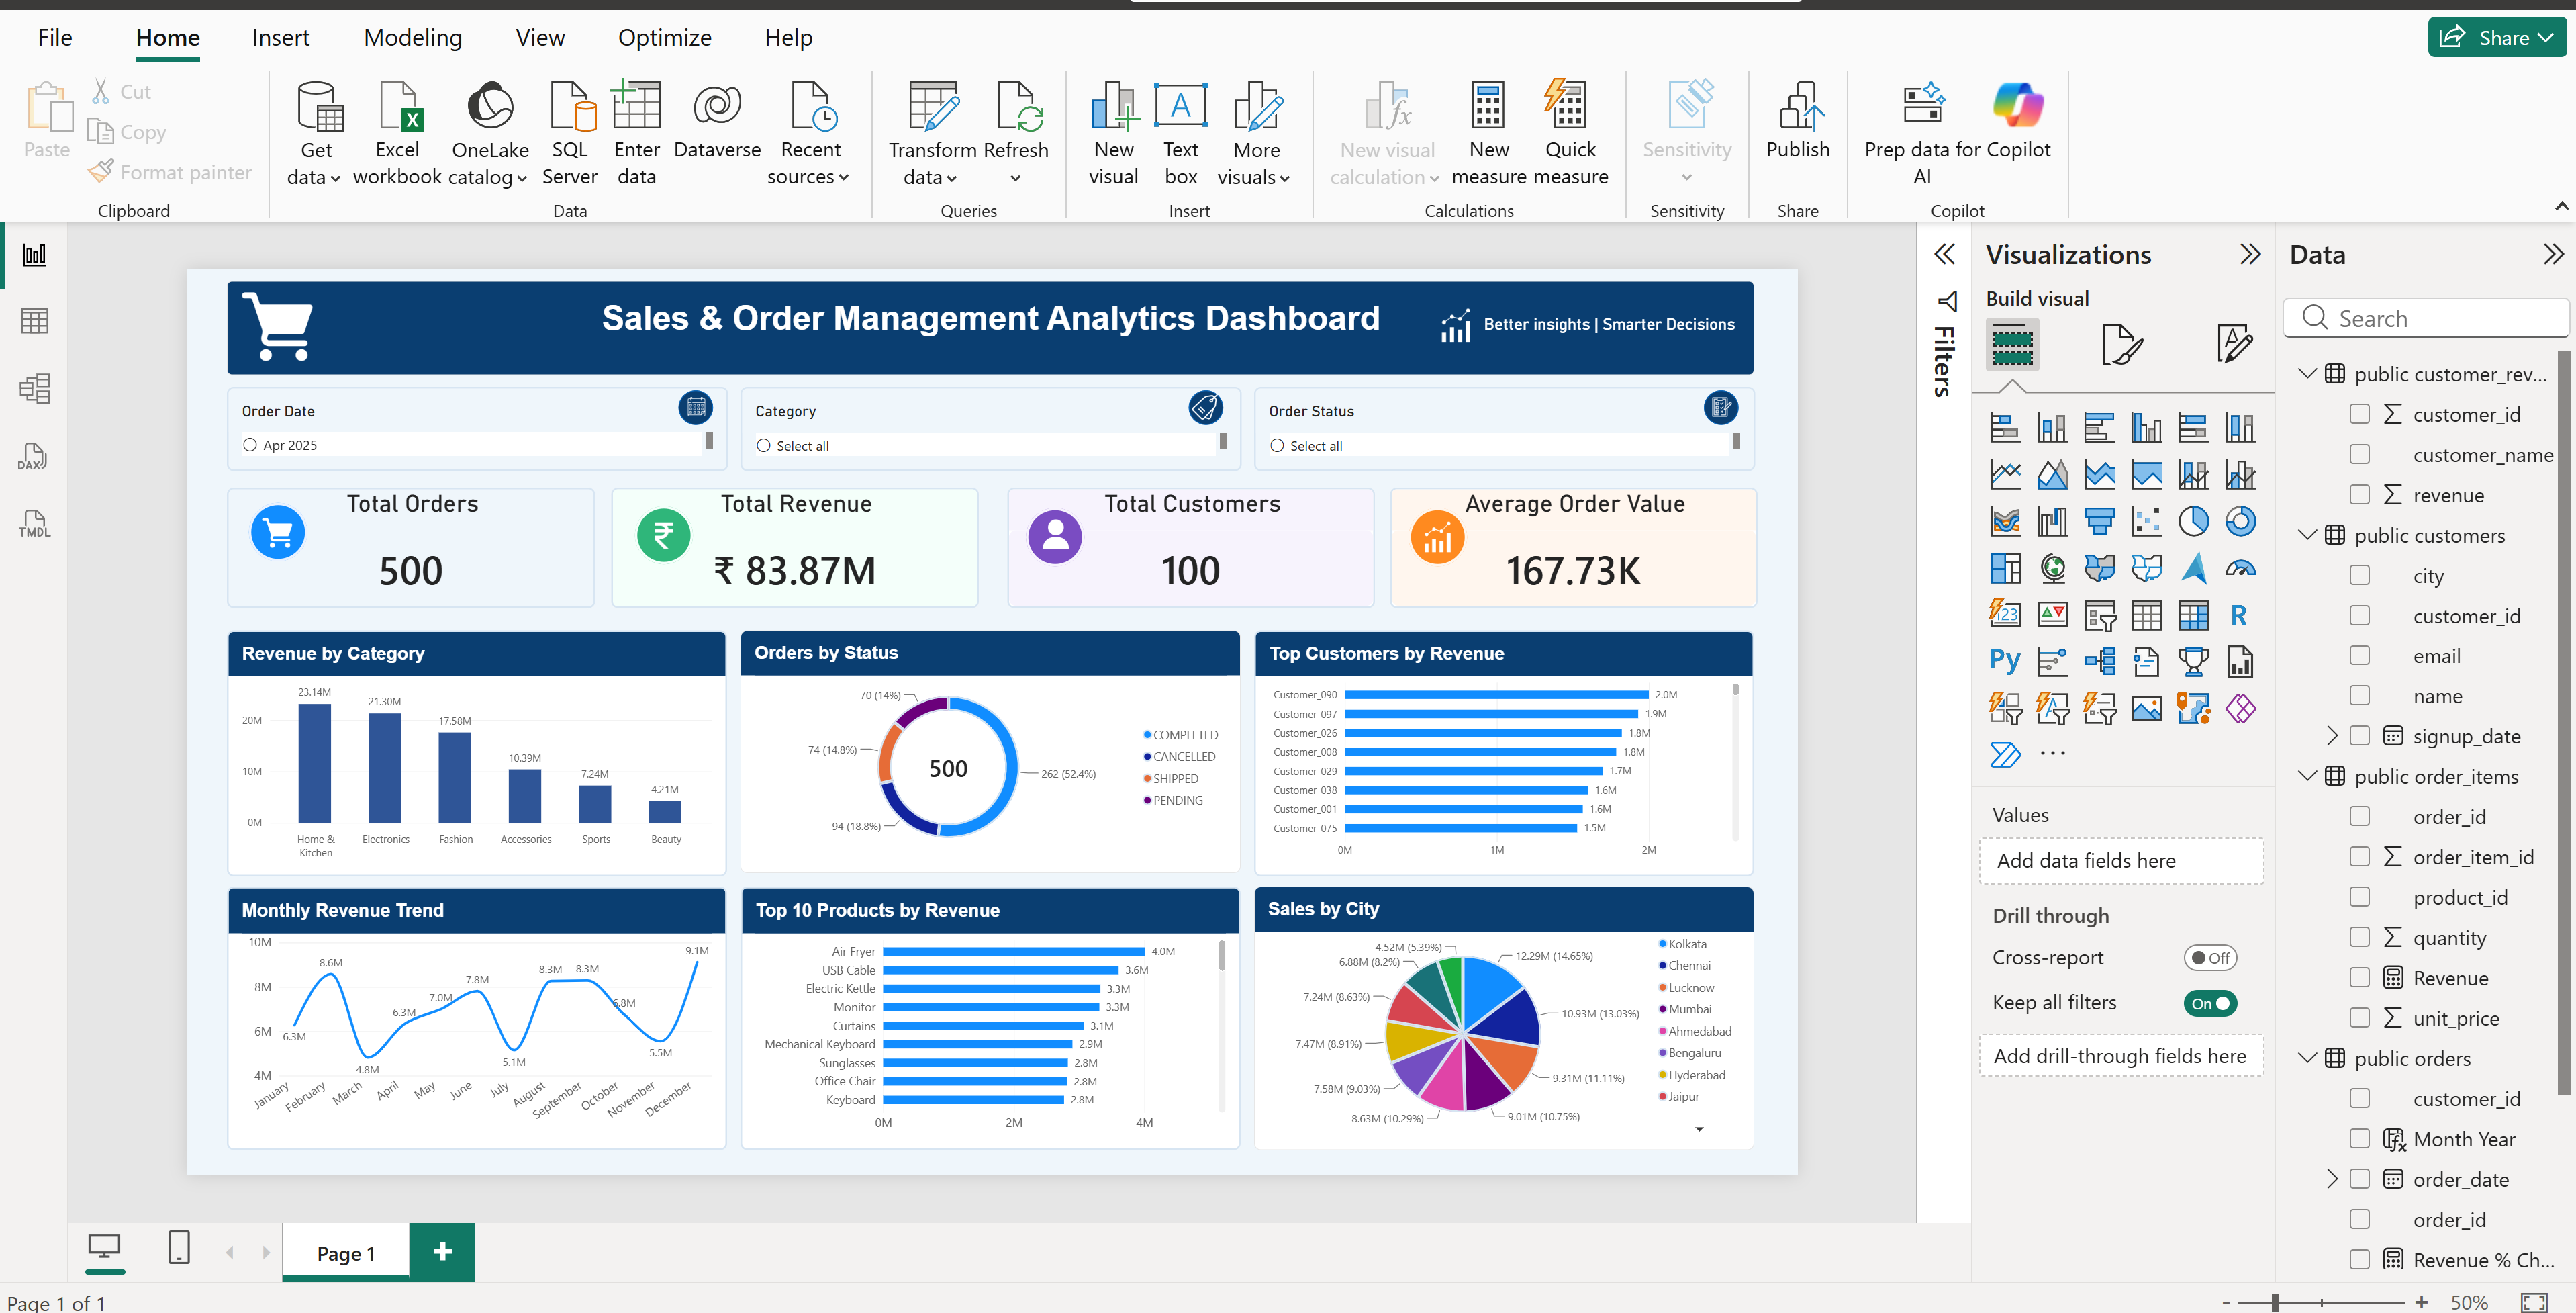

This screenshot's page, from the dashboard's own definition file:
{"tool":"powerbi","page":{"name":"Page 1","canvas":[1920,1080],"ordinal":0},"visuals":[{"type":"cardVisual","title":"Total Revenue","fields":{"Data":["Sum(public orders.total_amount)"]},"box":[505.3,260.8,438,143.8],"z":0},{"type":"shape","box":[74.5,277.1,70,70],"z":1000},{"type":"cardVisual","title":"Total Orders","fields":{"Data":["CountNonNull(public orders.order_id)"]},"box":[47.9,260.6,438.8,143.6],"z":2000},{"type":"image","box":[89.8,283.5,36.5,58.9],"z":3000},{"type":"cardVisual","title":"Total Customers","fields":{"Data":["CountNonNull(public customers.customer_id)"]},"box":[978.6,260.8,438,143.5],"z":4000},{"type":"cardVisual","title":"Average Order Value","fields":{"Data":["Avg(public orders.total_amount)"]},"box":[1433.4,260.8,438,143.5],"z":5000},{"type":"lineChart","title":"Monthly Revenue Trend","fields":{"Category":["public orders.order_date.Variation.Date Hierarchy.Month"],"Y":["Sum(public orders.total_amount)"]},"box":[47.3,735.2,596,314.1],"z":6000},{"type":"clusteredColumnChart","title":"Revenue by Category","fields":{"Category":["public products.category"],"Y":["public order_items.Revenue"]},"box":[48,430,596,294],"z":7000},{"type":"clusteredBarChart","title":"Top 10 Products by Revenue","fields":{"Category":["public products.product_name"],"Y":["public order_items.Revenue"]},"box":[659.4,735.2,596,314.1],"z":8000},{"type":"donutChart","title":"Orders by Status","fields":{"Category":["public orders.status"],"Y":["CountNonNull(public orders.order_id)"]},"box":[660,430,596,290],"z":9000},{"type":"pieChart","title":"Sales by City","fields":{"Category":["public customers.city"],"Y":["Sum(public orders.total_amount)"]},"box":[1271.5,735.2,596,314.1],"z":10000},{"type":"clusteredBarChart","title":"Top Customers by Revenue","fields":{"Category":["public customers.name"],"Y":["Sum(public orders.total_amount)"]},"box":[1272,430,596,294],"z":11000},{"type":"textbox","title":"Sales & Order Management Analytics Dashboard","box":[48,14,1820,112],"z":12000},{"type":"listSlicer","title":"Order Date","fields":{"Values":["public orders.Month Year"]},"box":[48.8,140.1,597.1,100.5],"z":13000},{"type":"listSlicer","title":"Category","fields":{"Values":["public products.category"]},"box":[660.3,140.1,597.1,100.5],"z":14000},{"type":"listSlicer","title":"Order Status","fields":{"Values":["public orders.status"]},"box":[1271.8,140.1,597.1,100.5],"z":15000},{"type":"image","box":[49.7,24.8,117.1,85.1],"z":16000},{"type":"image","box":[1490.6,44.4,45,45],"z":17000},{"type":"shape","box":[534.3,282.4,69.5,69.5],"z":17000,"group":"g1"},{"type":"textbox","title":"Better insights  |  Smarter Decisions","box":[1546.8,44.4,316.5,41.4],"z":18000},{"type":"image","box":[547.1,292.8,47.3,50.3],"z":18000,"group":"g1"},{"type":"group","id":"g1","title":"Group 1","box":[534.3,282.4,69.5,69.5],"z":19000},{"type":"shape","box":[999.6,283.9,70,70],"z":19000,"group":"g2"},{"type":"group","id":"g2","title":"Group 2","box":[999.6,283.9,70,70],"z":20000},{"type":"image","box":[1017.3,298.7,35.5,35.5],"z":20000,"group":"g2"},{"type":"group","id":"g3","title":"Group 3","box":[1455.1,283.9,70,70],"z":21000},{"type":"shape","box":[1455.1,283.9,70,70],"z":21000,"group":"g3"},{"type":"shape","box":[586.4,145,41.4,41.4],"z":22000,"group":"g4"},{"type":"image","box":[1469.9,298.7,41.4,41.4],"z":22000,"group":"g3"},{"type":"shape","box":[1193.2,145,41.4,41.4],"z":23000,"group":"g5"},{"type":"shape","box":[1808.9,145,41.4,41.4],"z":24000,"group":"g6"},{"type":"image","box":[595.8,154,23,23],"z":25000,"group":"g4"},{"type":"image","box":[1196.2,147.3,35.3,35.3],"z":26000,"group":"g5"},{"type":"image","box":[1819.8,153,23,24],"z":27000,"group":"g6"},{"type":"group","id":"g4","title":"Group 4","box":[586.4,145,41.4,41.4],"z":27001},{"type":"group","id":"g5","title":"Group 5","box":[1193.2,145,41.4,41.4],"z":27002},{"type":"group","id":"g6","title":"Group 6","box":[1808.9,145,41.4,41.4],"z":27003}]}

Visuals, with their boxes on the page's 1920x1080 design canvas (x1, y1, x2, y2). These are canvas units, not pixel positions in the 2576x1313 screenshot, which may show the page scaled, cropped or inside an application window:
"Total Revenue" cardVisual: detection(505, 261, 943, 405)
shape: detection(74, 277, 144, 347)
"Total Orders" cardVisual: detection(48, 261, 487, 404)
image: detection(90, 284, 126, 342)
"Total Customers" cardVisual: detection(979, 261, 1417, 404)
"Average Order Value" cardVisual: detection(1433, 261, 1871, 404)
"Monthly Revenue Trend" lineChart: detection(47, 735, 643, 1049)
"Revenue by Category" clusteredColumnChart: detection(48, 430, 644, 724)
"Top 10 Products by Revenue" clusteredBarChart: detection(659, 735, 1255, 1049)
"Orders by Status" donutChart: detection(660, 430, 1256, 720)
"Sales by City" pieChart: detection(1272, 735, 1868, 1049)
"Top Customers by Revenue" clusteredBarChart: detection(1272, 430, 1868, 724)
"Sales & Order Management Analytics Dashboard" textbox: detection(48, 14, 1868, 126)
"Order Date" listSlicer: detection(49, 140, 646, 241)
"Category" listSlicer: detection(660, 140, 1257, 241)
"Order Status" listSlicer: detection(1272, 140, 1869, 241)
image: detection(50, 25, 167, 110)
image: detection(1491, 44, 1536, 89)
shape: detection(534, 282, 604, 352)
"Better insights  |  Smarter Decisions" textbox: detection(1547, 44, 1863, 86)
image: detection(547, 293, 594, 343)
"Group 1" group: detection(534, 282, 604, 352)
shape: detection(1000, 284, 1070, 354)
"Group 2" group: detection(1000, 284, 1070, 354)
image: detection(1017, 299, 1053, 334)
"Group 3" group: detection(1455, 284, 1525, 354)
shape: detection(1455, 284, 1525, 354)
shape: detection(586, 145, 628, 186)
image: detection(1470, 299, 1511, 340)
shape: detection(1193, 145, 1235, 186)
shape: detection(1809, 145, 1850, 186)
image: detection(596, 154, 619, 177)
image: detection(1196, 147, 1232, 183)
image: detection(1820, 153, 1843, 177)
"Group 4" group: detection(586, 145, 628, 186)
"Group 5" group: detection(1193, 145, 1235, 186)
"Group 6" group: detection(1809, 145, 1850, 186)
